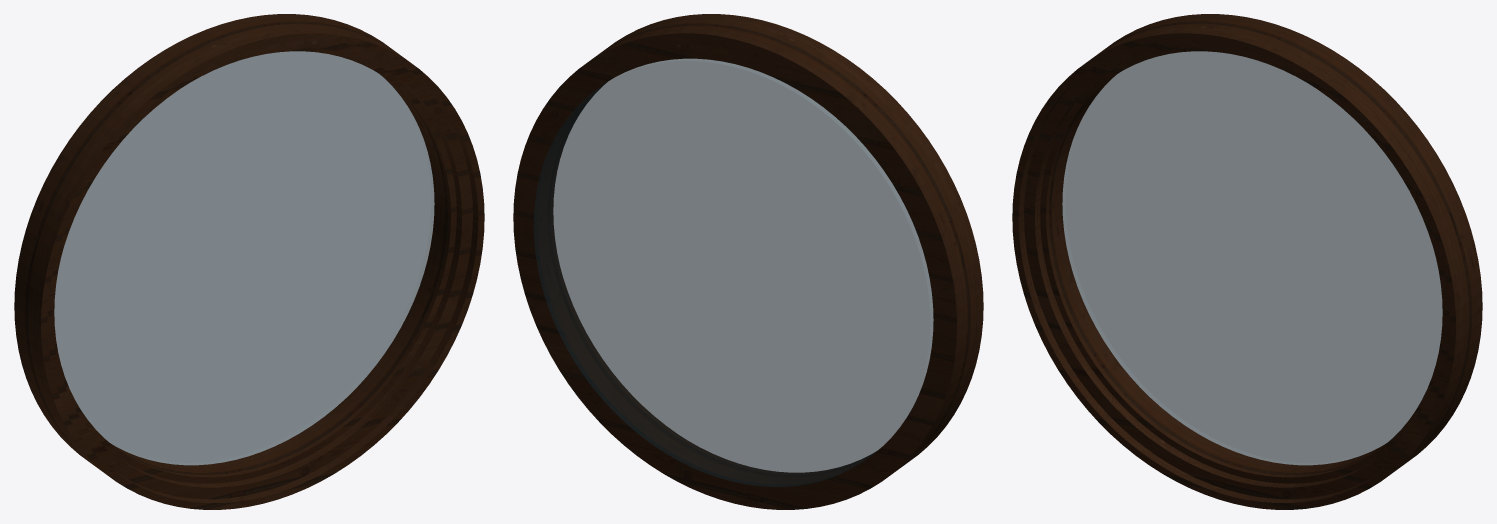
The model's file is madera_circle.glb.
3 renders of one model, left to right at view 1: azimuth 30°, elevation 25°; view 2: azimuth 150°, elevation 25°; view 3: azimuth 330°, elevation 25°, orthographic.
Parts seen in each view (by area): view 1: window_glass#0001, window_reveal#0001, window_profile#0020, window_profile#0009, window_profile#0010, window_profile#0001, window_profile#0017, window_profile#0011, window_profile#0019, window_profile#0018, window_profile#0012, window_profile#0002 (+10 smaller); view 2: window_glass#0001, window_reveal#0001, window_profile#0020, window_profile#0001; view 3: window_glass#0001, window_reveal#0001, window_profile#0020, window_profile#0009, window_profile#0010, window_profile#0001, window_profile#0017, window_profile#0011, window_profile#0019, window_profile#0018, window_profile#0012, window_profile#0002 (+10 smaller).
Boxes of the visible parts, x1,y1,x2,y2 form: window_glass#0001: (54,51,434,465); window_reveal#0001: (14,14,448,475); window_profile#0020: (27,23,484,509); window_profile#0009: (50,45,464,490); window_profile#0010: (48,42,467,493); window_profile#0001: (53,49,452,478); window_profile#0017: (45,38,479,504); window_profile#0011: (47,40,470,496); window_profile#0019: (42,35,482,508); window_profile#0018: (44,36,481,506); window_profile#0012: (63,41,472,499); window_profile#0002: (53,48,453,480); window_glass#0001: (533,58,933,486); window_reveal#0001: (513,22,971,509); window_profile#0020: (605,14,983,461); window_profile#0001: (550,84,876,474); window_glass#0001: (1062,51,1442,465); window_reveal#0001: (1047,14,1482,475); window_profile#0020: (1012,23,1469,509); window_profile#0009: (1032,45,1446,490); window_profile#0010: (1029,42,1448,493); window_profile#0001: (1044,49,1443,478); window_profile#0017: (1017,38,1451,504); window_profile#0011: (1026,40,1449,496); window_profile#0019: (1014,35,1454,508); window_profile#0018: (1015,36,1452,506); window_profile#0012: (1024,41,1433,499); window_profile#0002: (1043,48,1443,480).
Size of the model in its own units: 1.6 by 1.6 by 0.1855.
2 materials, 1 textured.
